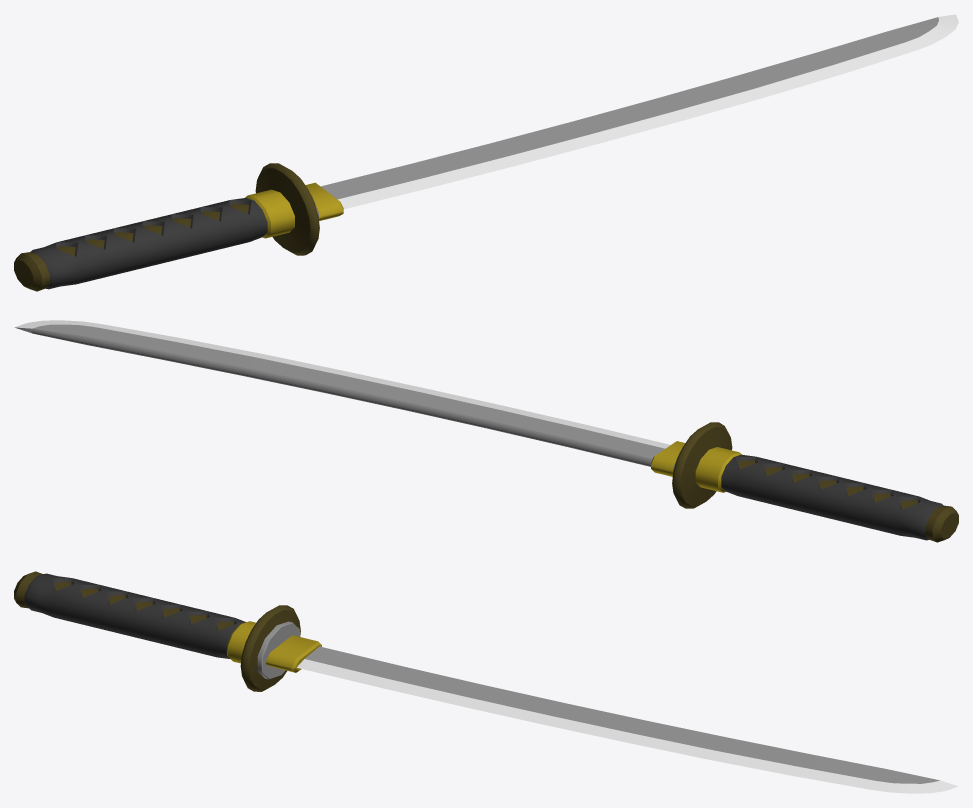
The model's file is Katana.FBX.
The picture shows the model from 3 angles, top to bottom: view 1: azimuth 30°, elevation 25°; view 2: azimuth 150°, elevation 25°; view 3: azimuth 330°, elevation 25°; orthographic projection. The views are drawn at different scales.
Parts seen in each view (by area): view 1: Katana_Blade, Katana; view 2: Katana_Blade, Katana; view 3: Katana_Blade, Katana.
Boxes of the visible parts, <box> form: Katana_Blade: <box>320,14,958,209</box>; Katana: <box>14,163,343,291</box>; Katana_Blade: <box>14,320,670,466</box>; Katana: <box>651,422,958,542</box>; Katana_Blade: <box>297,646,958,793</box>; Katana: <box>14,571,321,691</box>.
Size of the model in its own units: 363 by 29.46 by 40.97.
